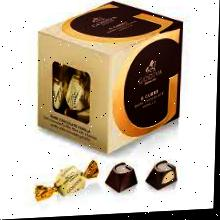cube: (36, 1, 184, 157)
